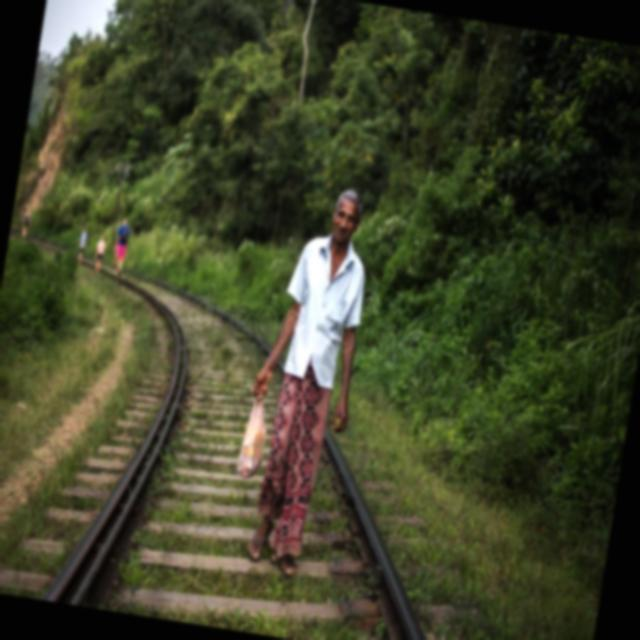rail: (16, 230, 453, 640)
